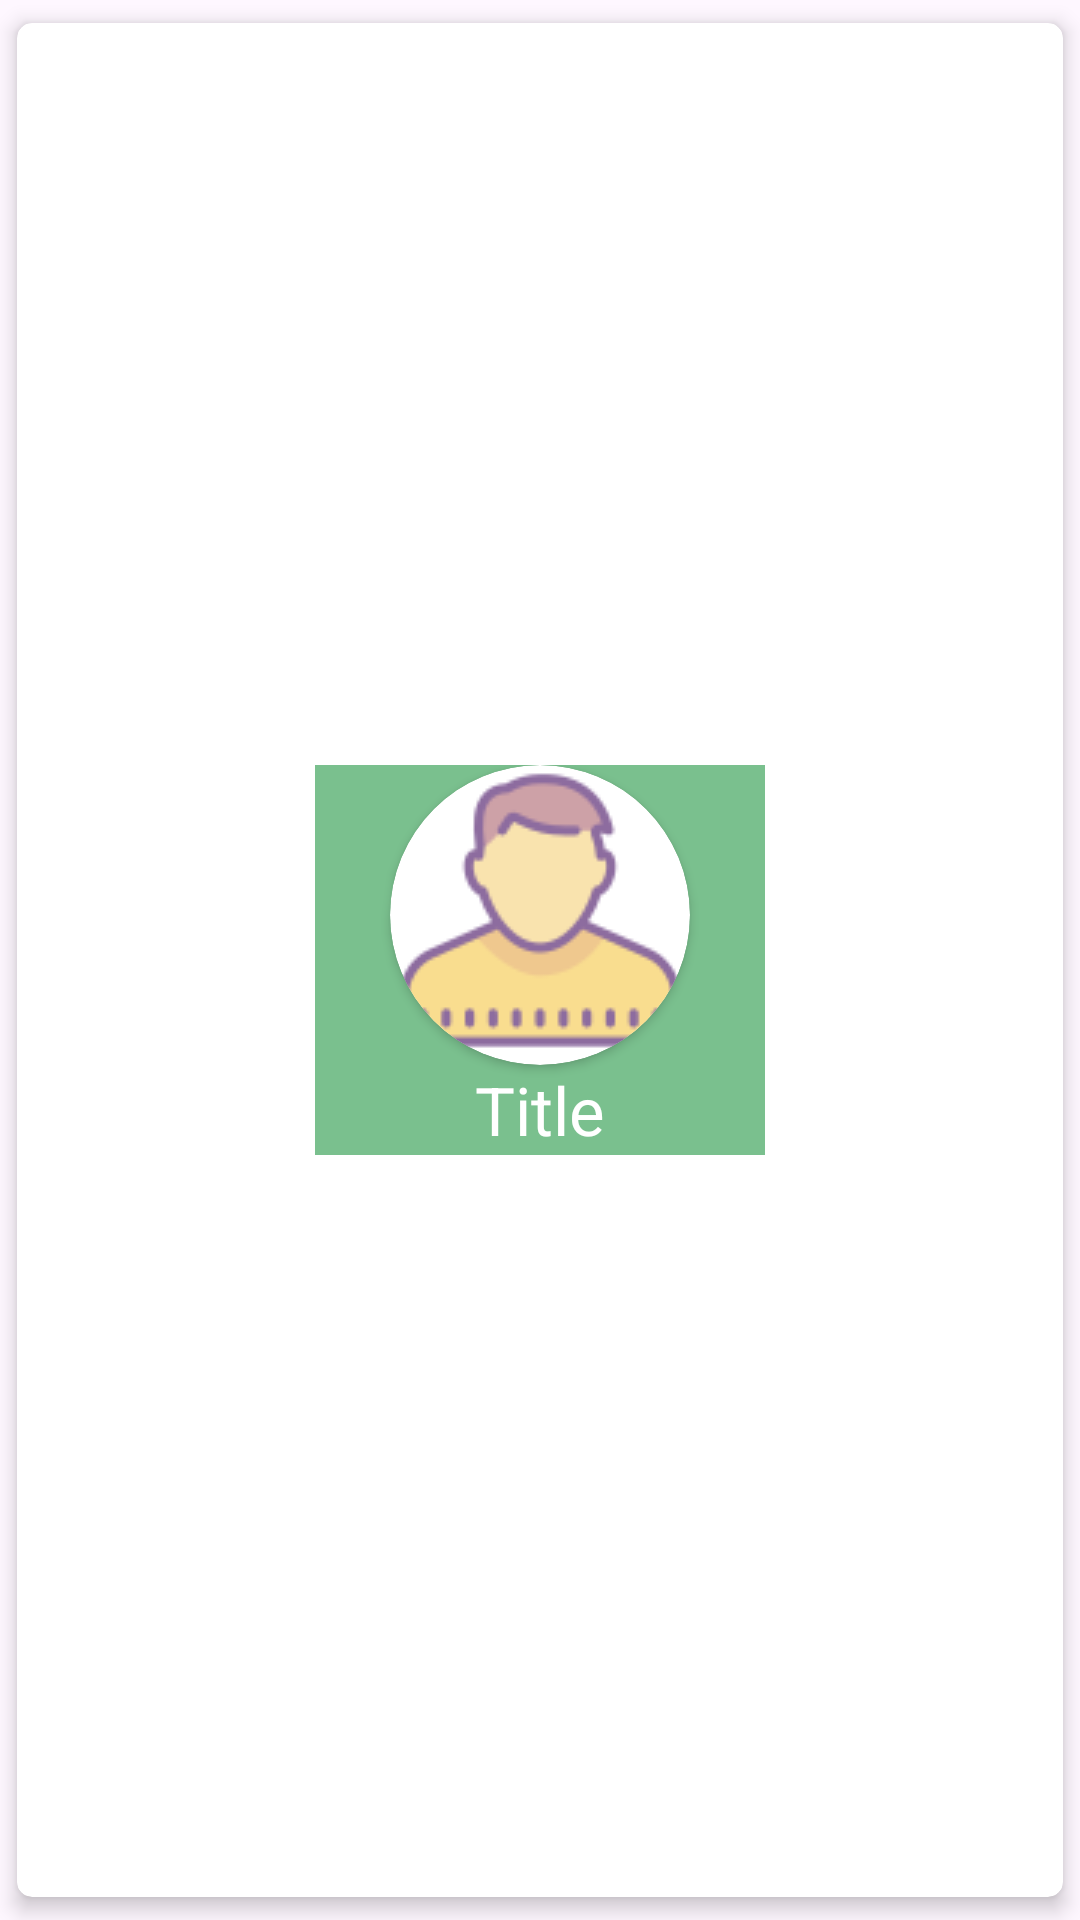

Icon bounding boxes for this 1080px x 1920px phone screenshot, format (x1, y1, x2, y2):
user: (390, 765, 690, 1065)
